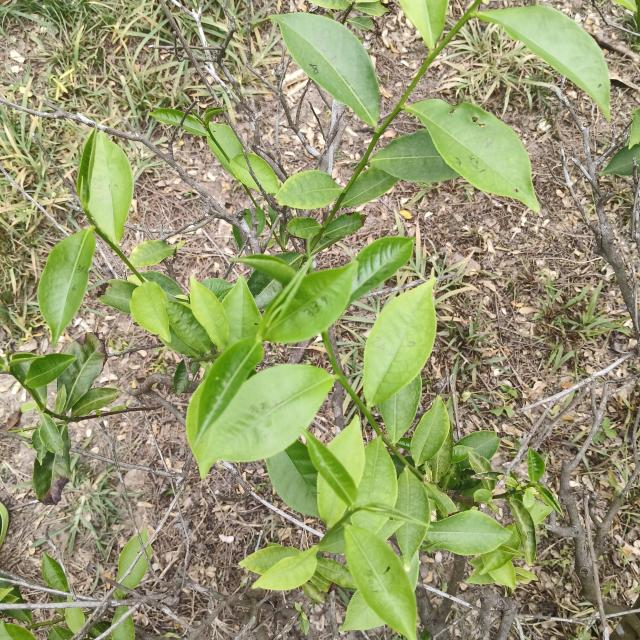Leaf: (477, 5, 609, 120), (406, 99, 539, 211), (201, 364, 333, 475), (270, 13, 379, 126), (186, 338, 263, 474), (364, 278, 436, 406), (345, 525, 417, 640), (263, 262, 358, 342), (37, 227, 95, 344), (83, 138, 133, 243), (371, 129, 459, 182), (349, 236, 412, 302), (265, 440, 319, 517), (424, 510, 510, 555), (57, 333, 106, 411), (307, 434, 357, 509), (395, 468, 430, 569), (190, 276, 229, 350), (33, 426, 70, 504), (410, 395, 451, 465), (355, 439, 397, 507), (254, 545, 317, 590), (222, 275, 261, 347), (380, 375, 421, 443), (327, 416, 365, 486), (276, 170, 342, 209), (130, 282, 171, 341), (400, 0, 448, 49), (166, 301, 211, 353), (341, 167, 398, 207), (480, 525, 521, 574), (508, 496, 536, 565), (340, 590, 386, 632), (235, 255, 296, 286), (239, 544, 300, 574), (76, 129, 98, 212), (208, 122, 242, 173), (26, 354, 76, 387), (117, 536, 148, 589), (317, 475, 346, 526), (247, 269, 283, 310), (430, 424, 453, 485), (71, 387, 121, 415), (246, 153, 279, 194), (99, 279, 137, 314), (129, 240, 174, 269), (456, 431, 501, 460), (601, 143, 640, 176), (317, 557, 356, 588), (323, 213, 365, 239), (424, 483, 456, 516), (41, 553, 68, 591), (230, 153, 258, 189), (39, 415, 63, 454), (286, 217, 322, 238), (0, 621, 36, 640), (352, 512, 386, 532), (527, 447, 545, 482), (150, 108, 183, 126), (111, 616, 135, 640), (181, 114, 207, 136), (63, 608, 85, 633), (355, 0, 388, 16), (407, 551, 420, 590), (9, 353, 44, 367), (279, 252, 303, 270), (347, 16, 374, 31), (311, 0, 349, 10), (112, 606, 131, 624), (461, 458, 470, 469), (140, 529, 147, 543)
